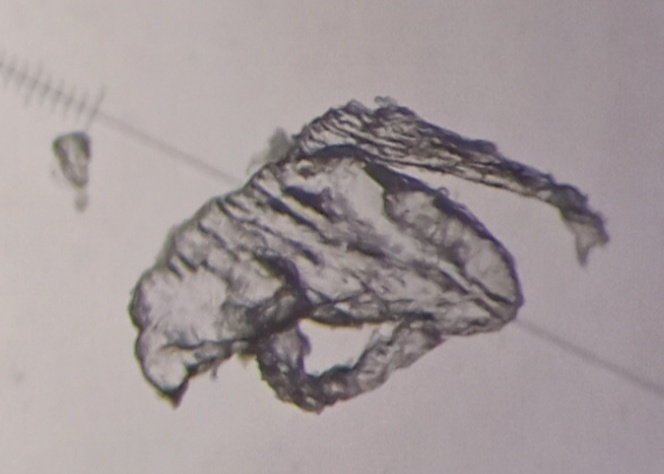microplastic: (115, 91, 610, 426), (53, 133, 105, 217)
